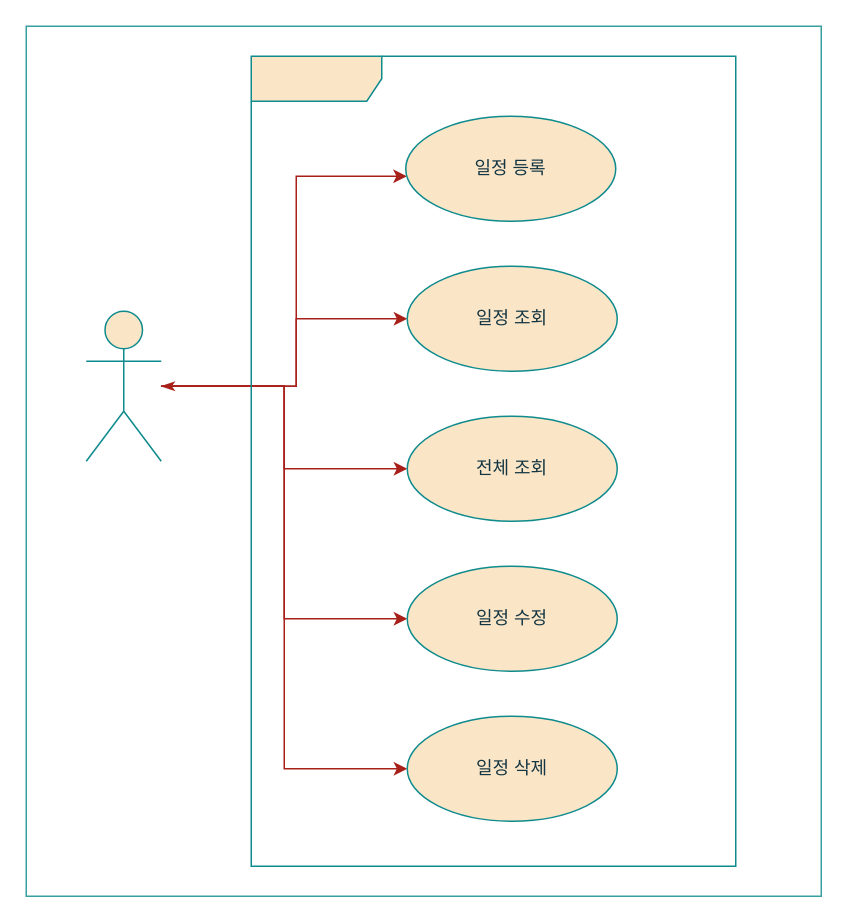
Image size: 848x923. Some labels were removed from this diagram. The centre of each missing label's shape, as x and y in pixels:
"Front-End" belongs at pixel 123 385.
"일정 관리" belongs at pixel 493 460.
